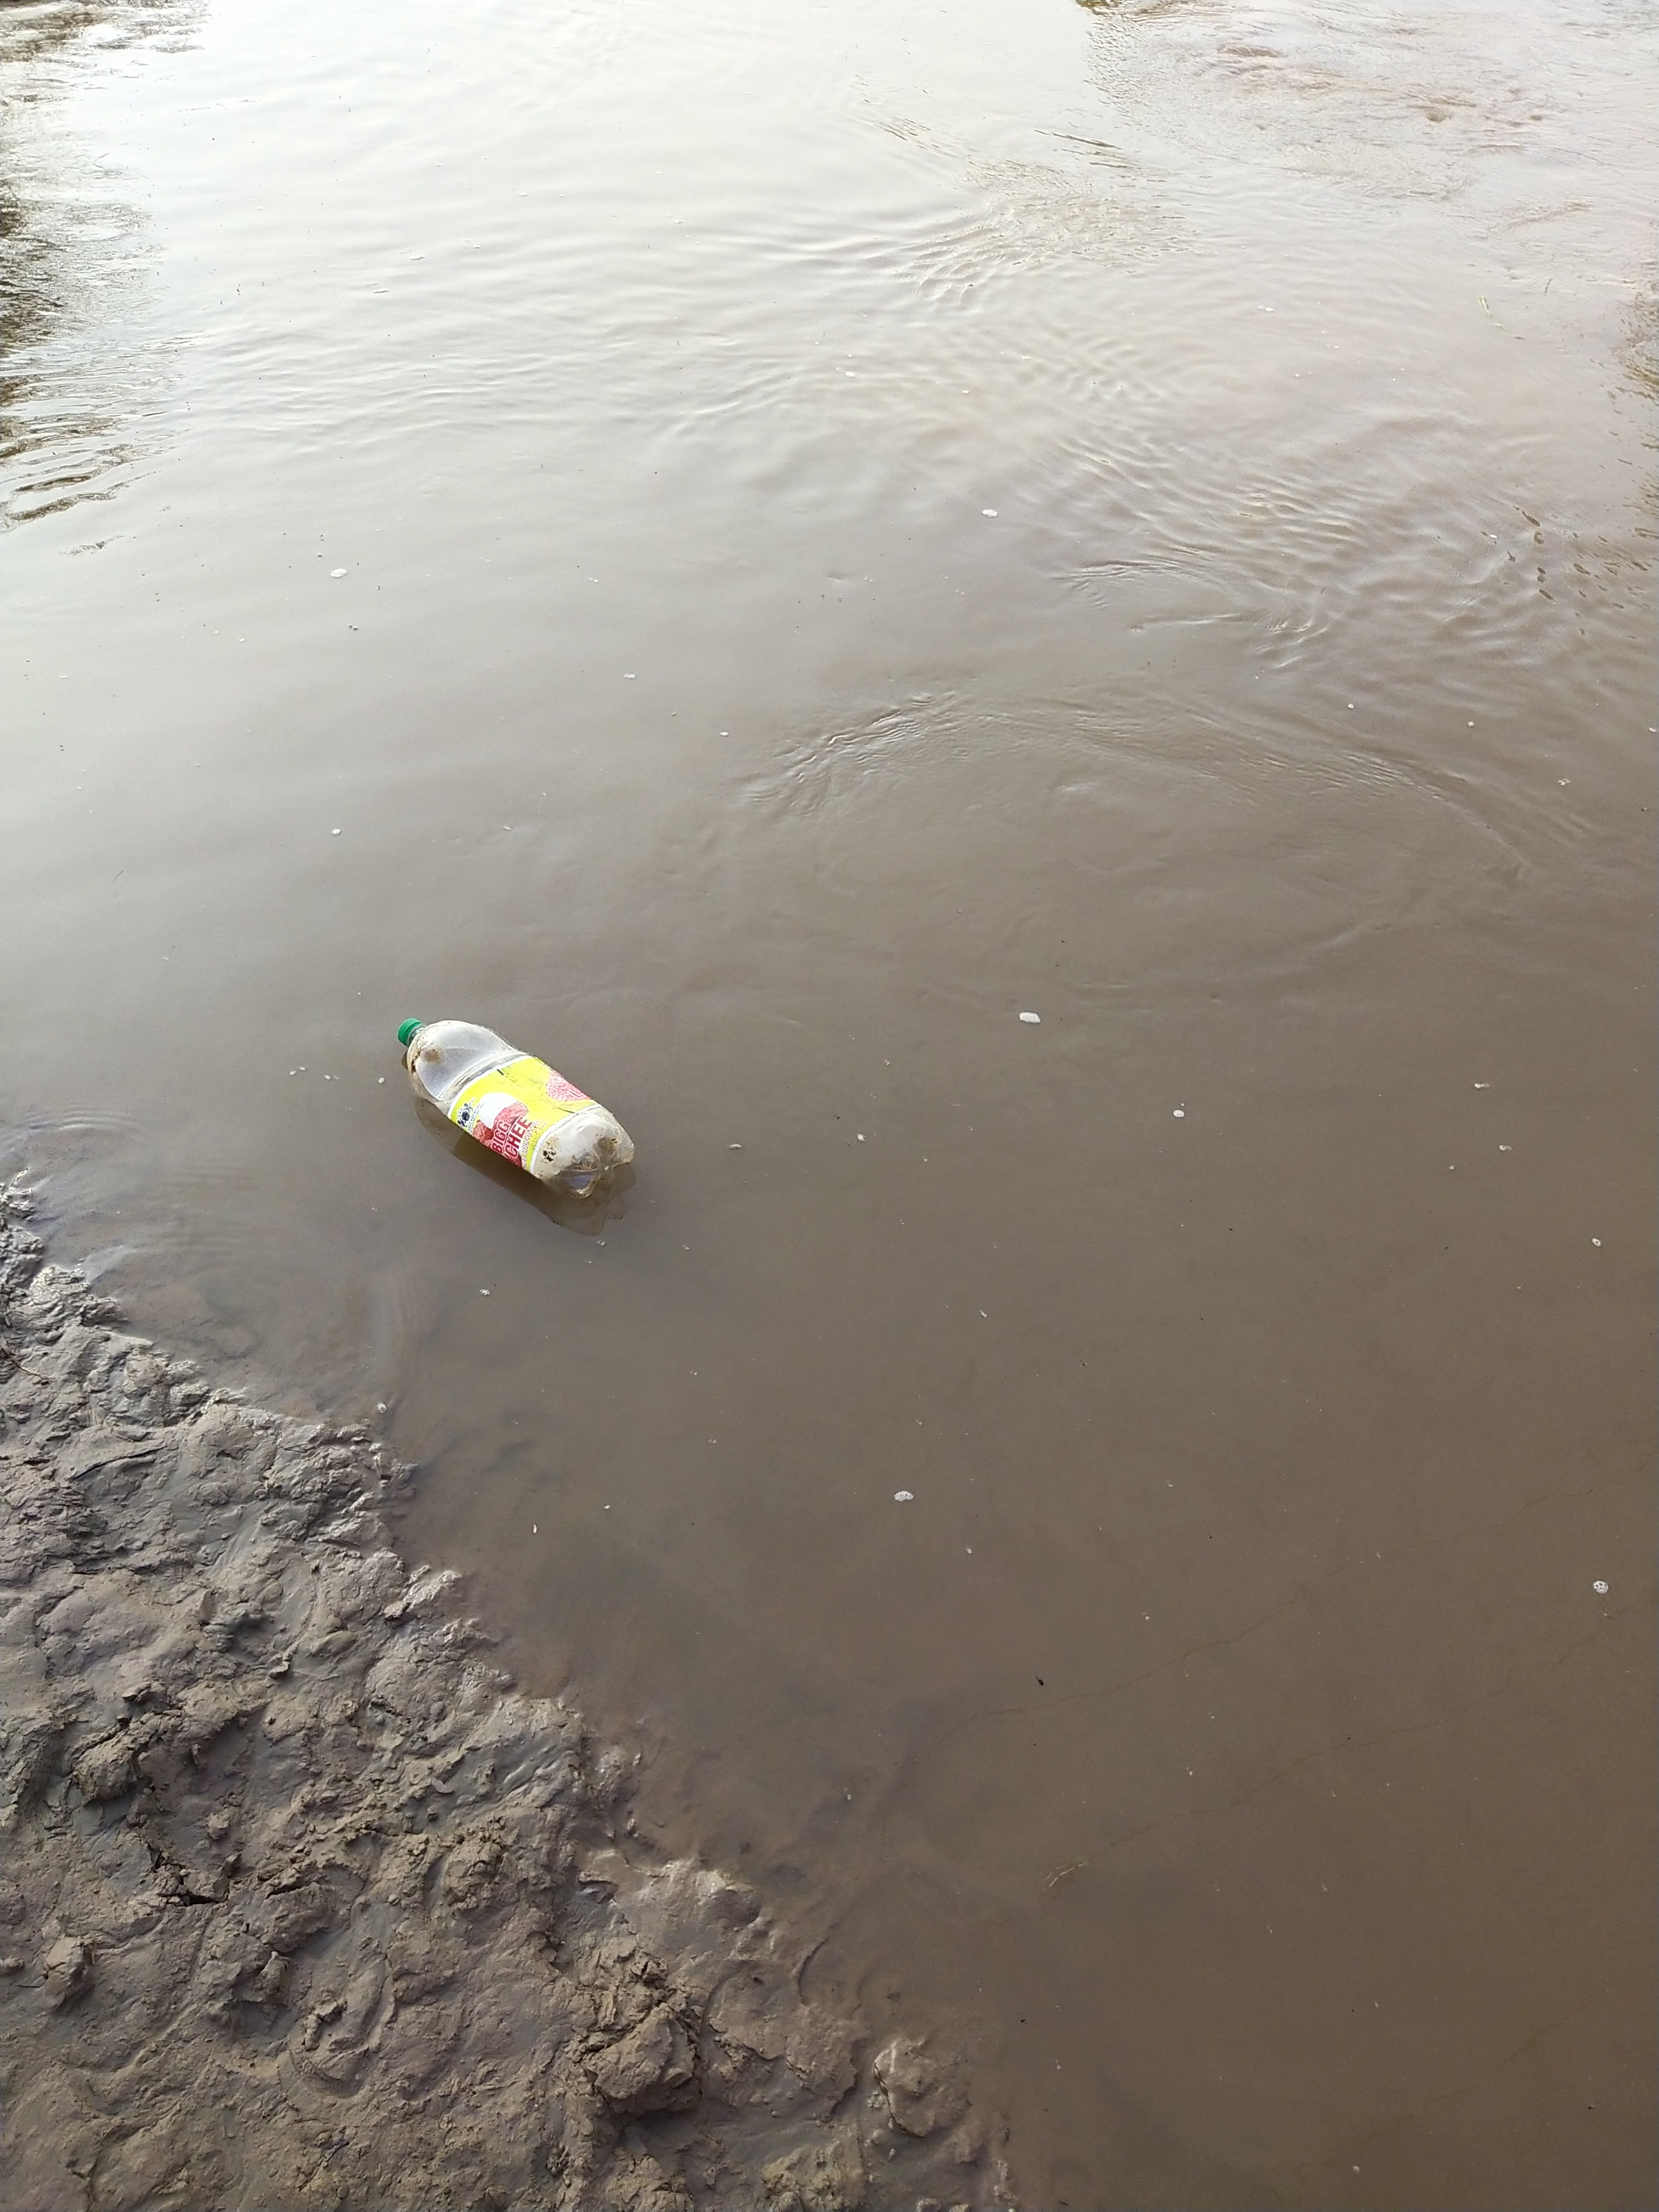Plastic Bottle: (397, 1017, 634, 1198)
